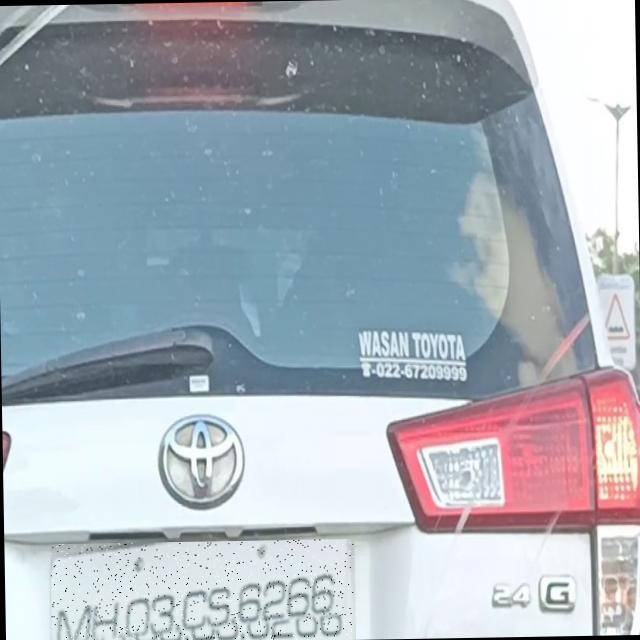Plate: (50, 539, 356, 640)
